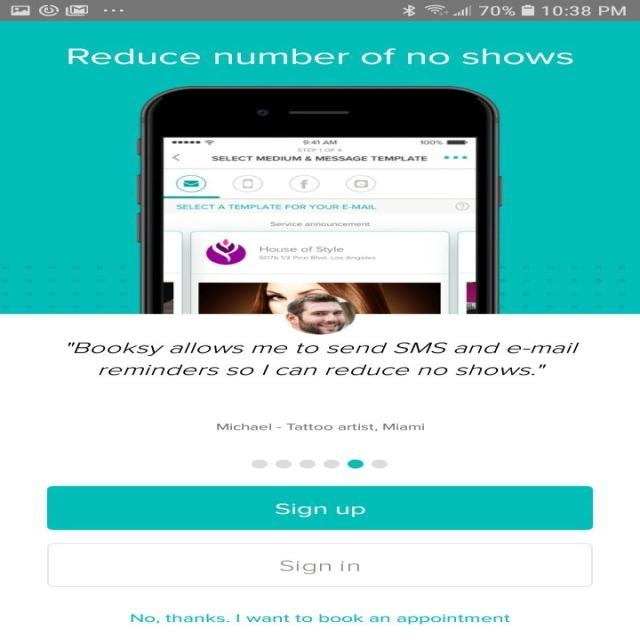Image: (136, 85, 502, 314), (282, 293, 356, 335)
Text: (67, 341, 578, 376), (66, 48, 572, 65), (130, 613, 510, 624), (216, 423, 424, 431)
TextButton: (46, 542, 592, 587), (47, 486, 593, 530)
